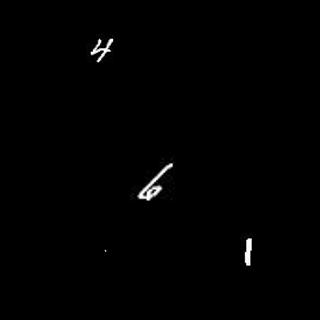dot: (100, 242, 110, 253)
four: (89, 35, 116, 64)
one: (242, 234, 255, 266)
six: (136, 161, 178, 202)
